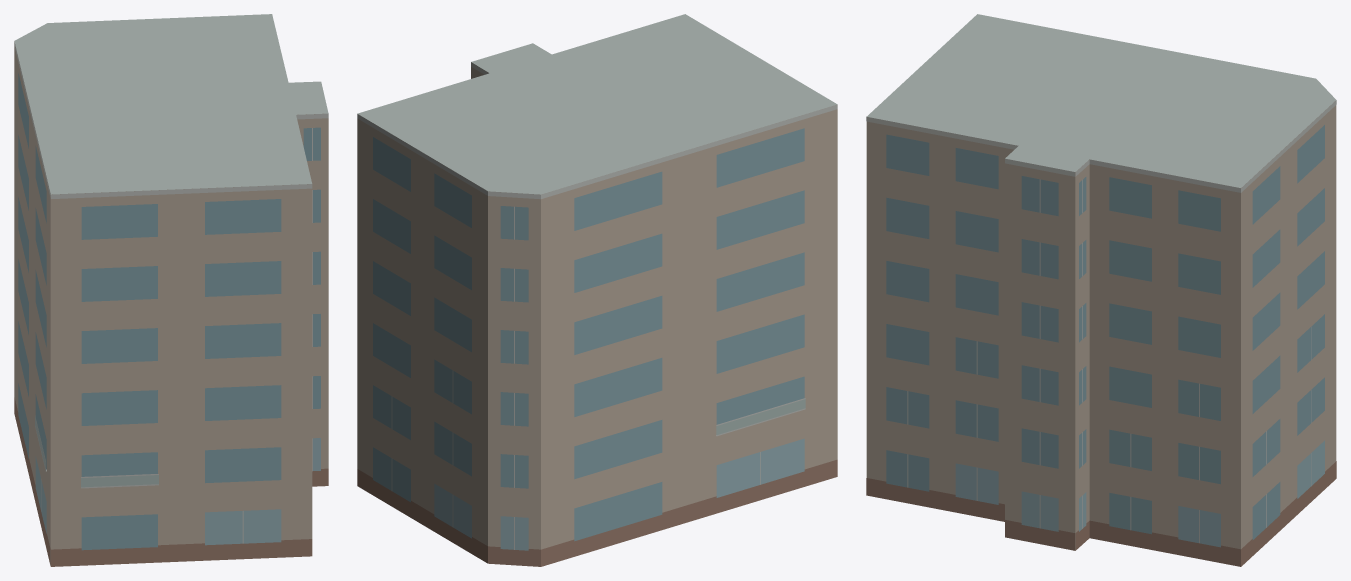
File: survey-upis-32840948.glb
3 renders of one model, left to right at view 1: azimuth 30°, elevation 25°; view 2: azimuth 150°, elevation 25°; view 3: azimuth 270°, elevation 25°, orthographic.
Visible parts, largest first — view 1: survey-upis-32840948.tmp; view 2: survey-upis-32840948.tmp; view 3: survey-upis-32840948.tmp.
Boxes of the visible parts, bbox=[...] form: survey-upis-32840948.tmp: bbox=[14, 14, 328, 566]; survey-upis-32840948.tmp: bbox=[357, 14, 837, 566]; survey-upis-32840948.tmp: bbox=[866, 14, 1336, 566].
Size of the model in its own units: 19.15 by 19.41 by 21.84.
